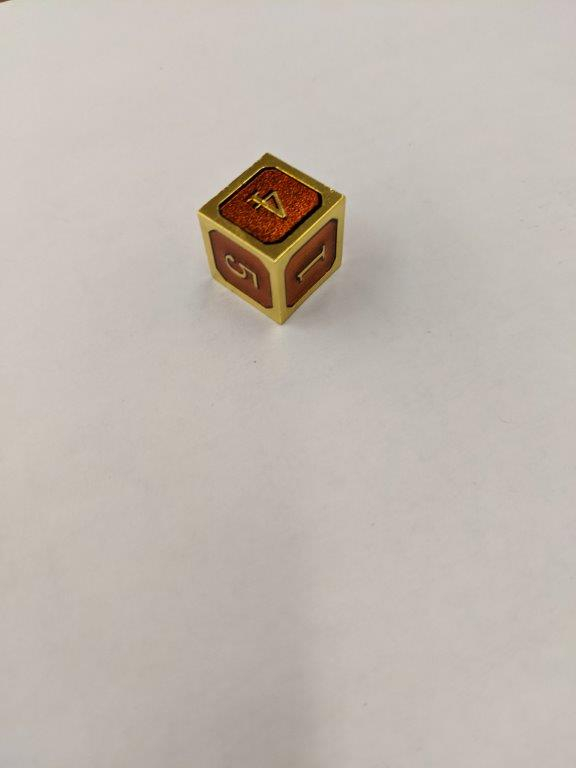d6-4: (197, 151, 347, 330)
